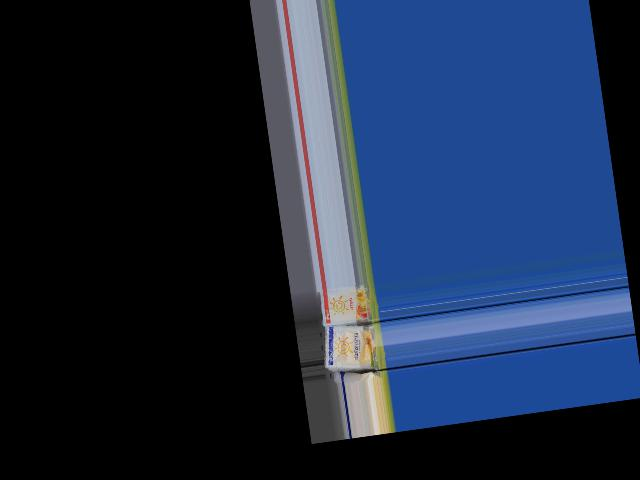cheese: (315, 281, 380, 327)
